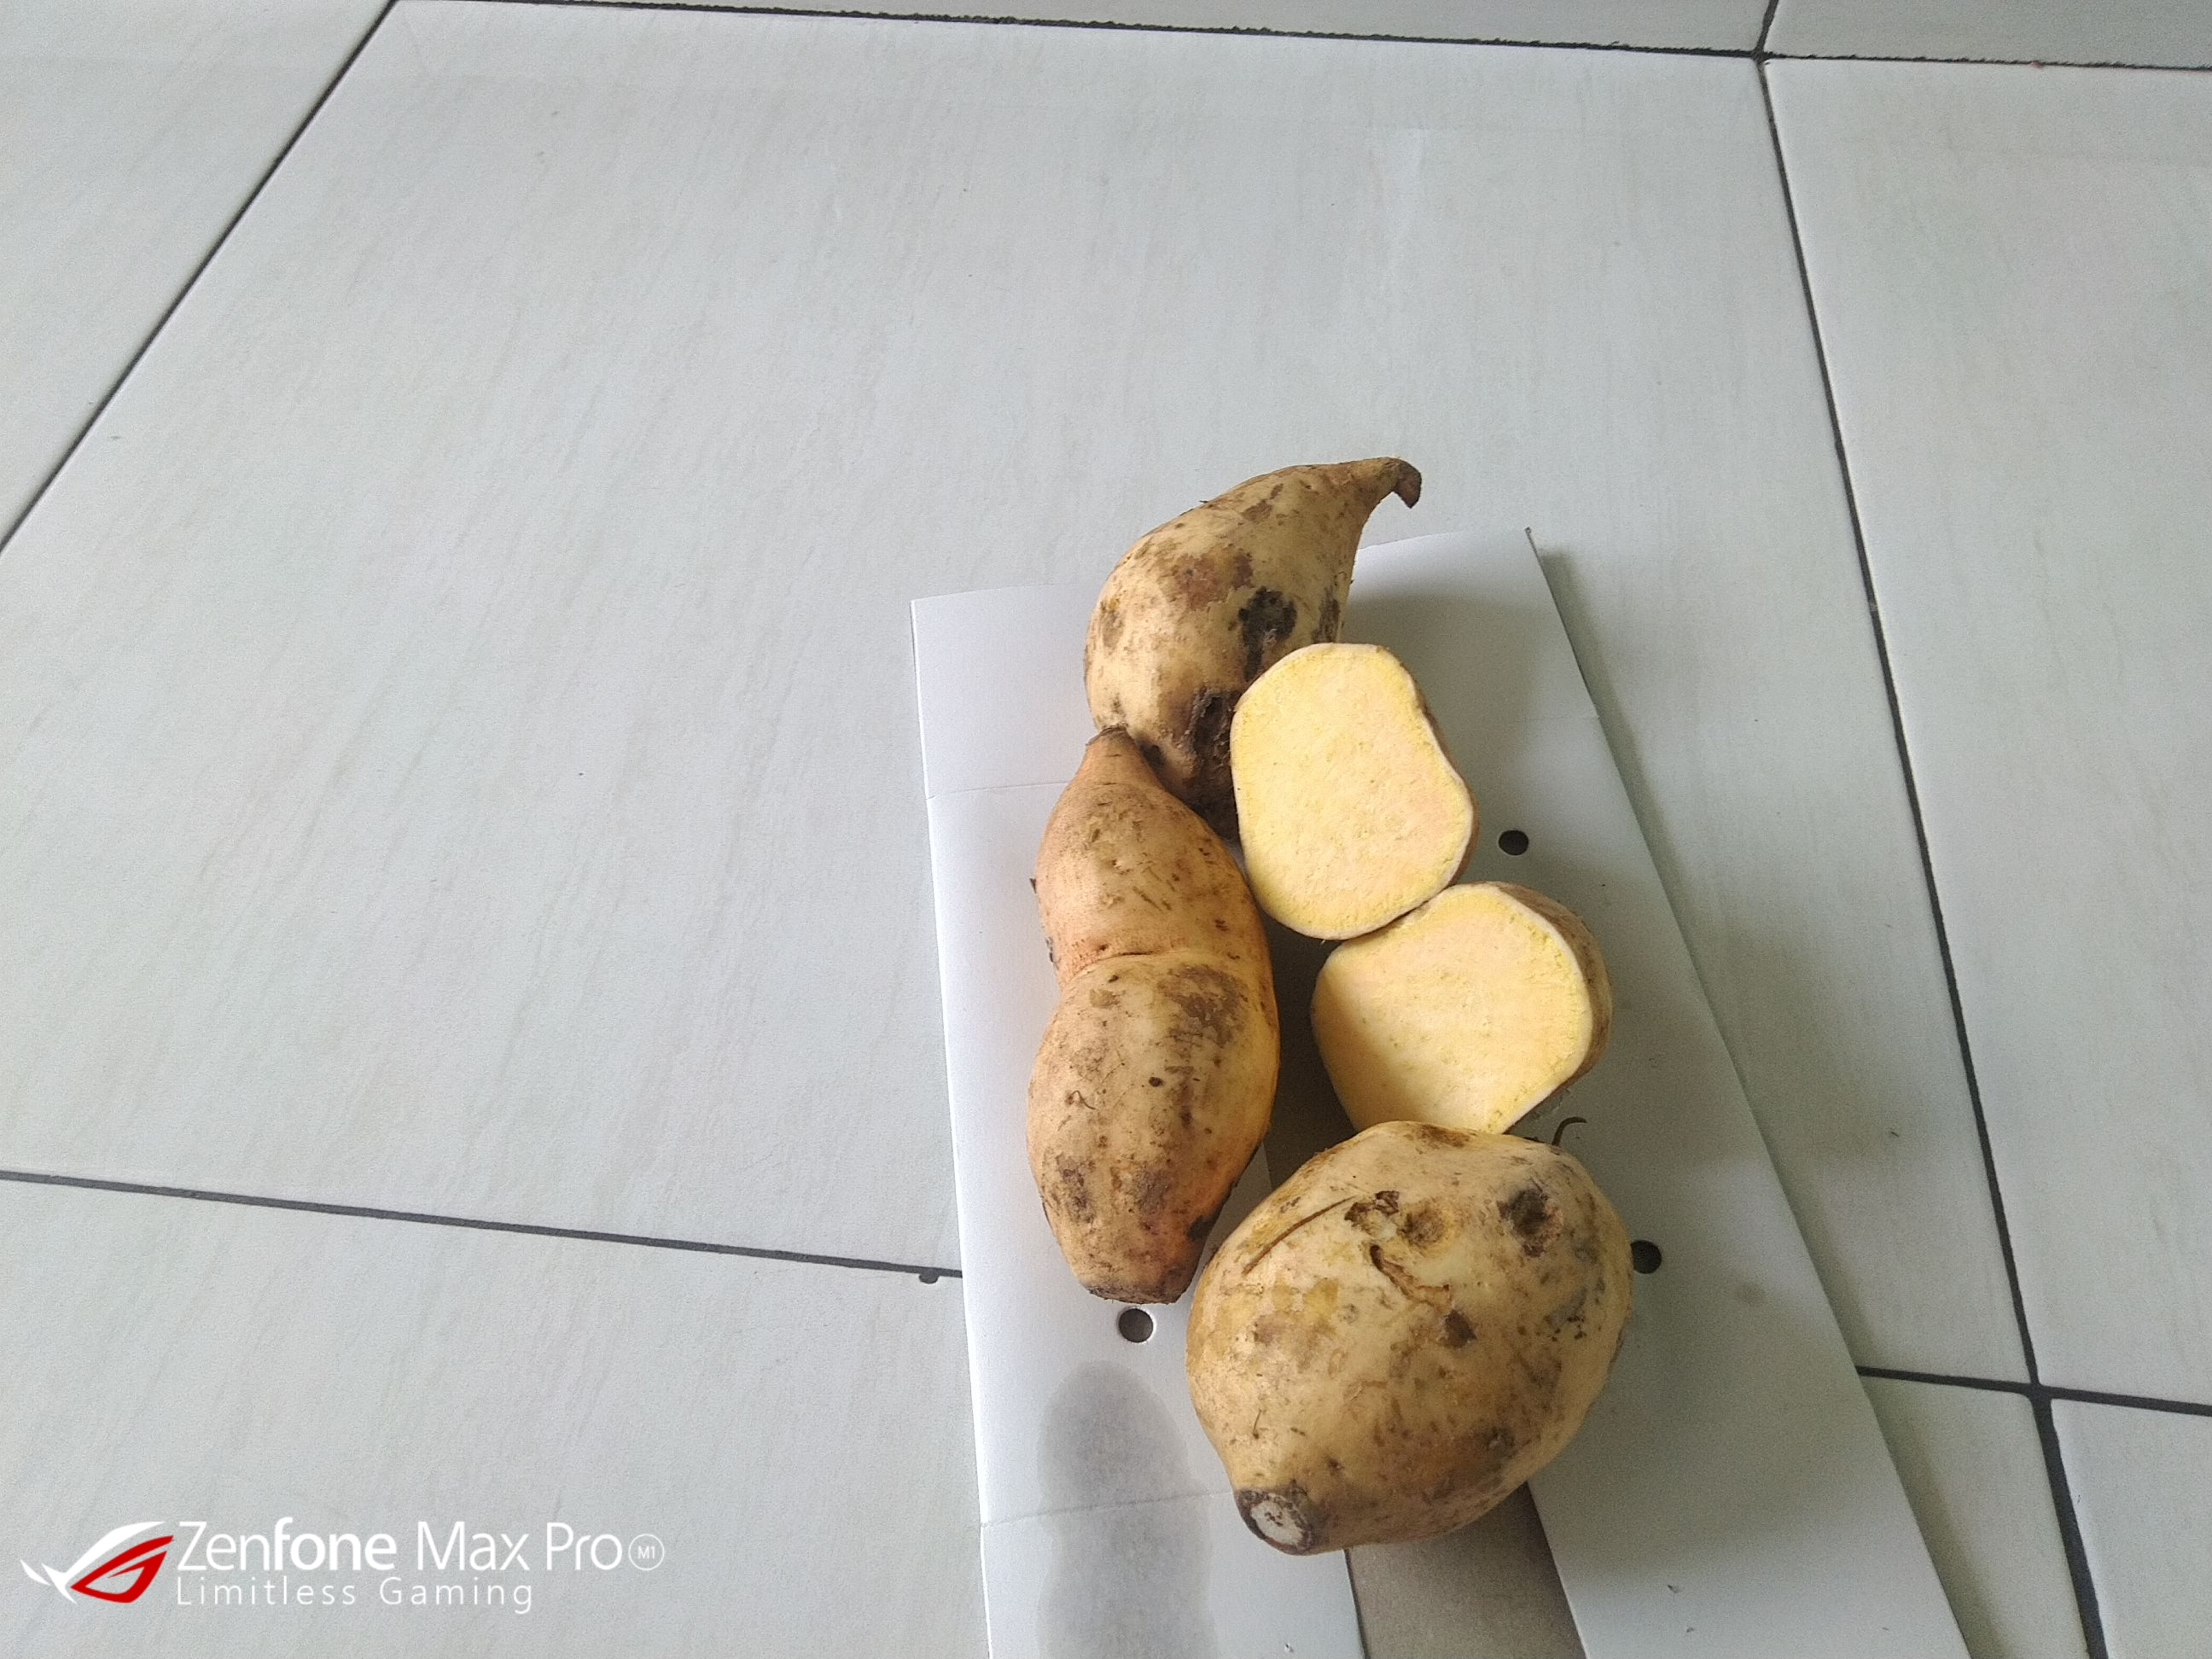ubi kuning: (1024, 425, 1608, 1556), (1183, 1124, 1656, 1556), (1235, 626, 1613, 1138), (1014, 730, 1287, 1310), (1076, 446, 1451, 812), (1217, 641, 1493, 946), (1306, 873, 1616, 1141)
